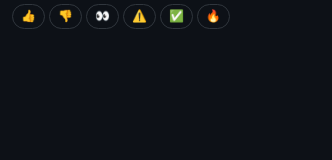
Test case: ReactionBar › shows an error message when a reaction request fails
What coordinates should you click on to do the following:
click the button named "React with eyes"
I would click on:
 (102, 17)
Its box is [86,4,119,29].
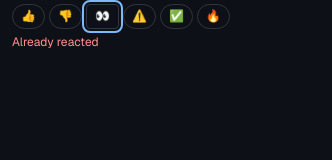
expect the text "Already reacted" is shown: met, box [12,34,99,50]
